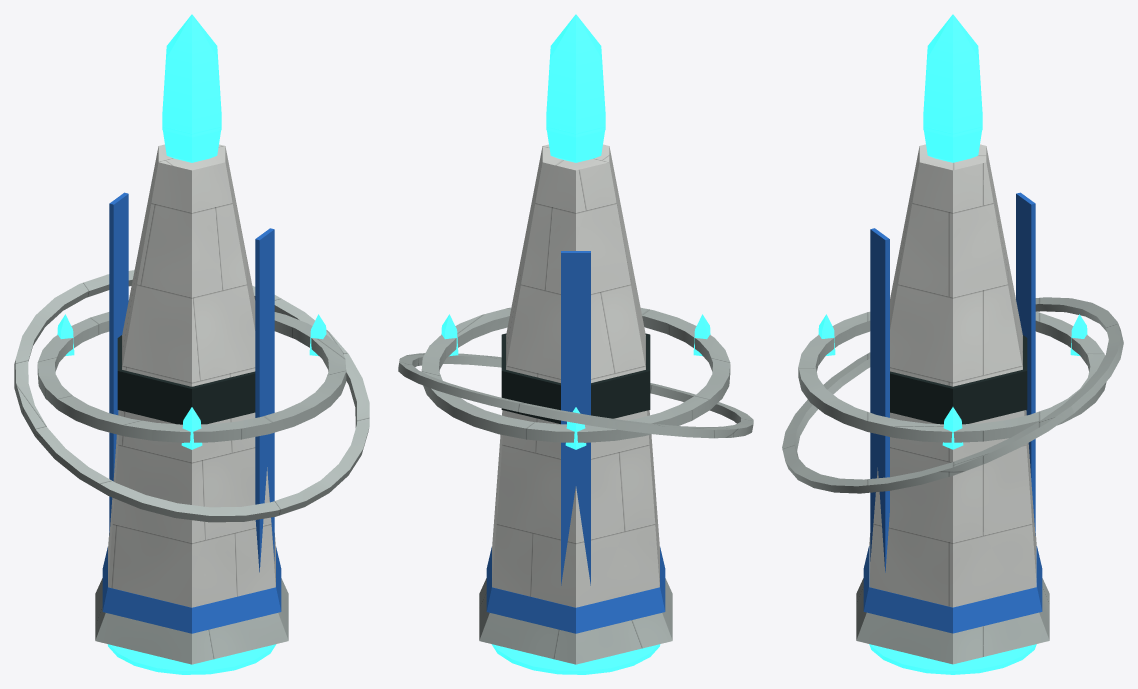
File: energia_obelisco.glb
3 views of the same model, side by side, from view 1: azimuth 30°, elevation 25°; view 2: azimuth 150°, elevation 25°; view 3: azimuth 270°, elevation 25° (orthographic).
Parts seen in each view (by area): view 1: Body_Shell, Ring_ShellAlt, Body_TeamColor, Body_Glow, Body_ShellAlt, Body_Core, Ring_Glow; view 2: Body_Shell, Ring_ShellAlt, Body_TeamColor, Body_Glow, Body_ShellAlt, Body_Core, Ring_Glow; view 3: Body_Shell, Ring_ShellAlt, Body_TeamColor, Body_Glow, Body_ShellAlt, Body_Core, Ring_Glow.
Boxes of the visible parts, <box> form: Body_Shell: <box>108,144,275,607</box>; Ring_ShellAlt: <box>14,270,369,522</box>; Body_TeamColor: <box>102,192,281,633</box>; Body_Glow: <box>107,14,276,674</box>; Body_ShellAlt: <box>95,578,288,664</box>; Body_Core: <box>117,335,255,424</box>; Ring_Glow: <box>57,314,326,449</box>; Body_Shell: <box>492,144,659,607</box>; Ring_ShellAlt: <box>398,307,753,442</box>; Body_TeamColor: <box>486,251,665,633</box>; Body_Glow: <box>491,14,660,674</box>; Body_ShellAlt: <box>479,578,672,664</box>; Body_Core: <box>501,333,650,424</box>; Ring_Glow: <box>441,314,710,449</box>; Body_Shell: <box>869,144,1036,607</box>; Ring_ShellAlt: <box>782,297,1123,493</box>; Body_TeamColor: <box>863,192,1042,633</box>; Body_Glow: <box>869,14,1036,674</box>; Body_ShellAlt: <box>856,578,1049,664</box>; Body_Core: <box>890,335,1027,424</box>; Ring_Glow: <box>818,314,1087,449</box>.
Size of the model in its own units: 4.2 by 8.03 by 3.98.
Materials: 5 (2 with a texture image).
